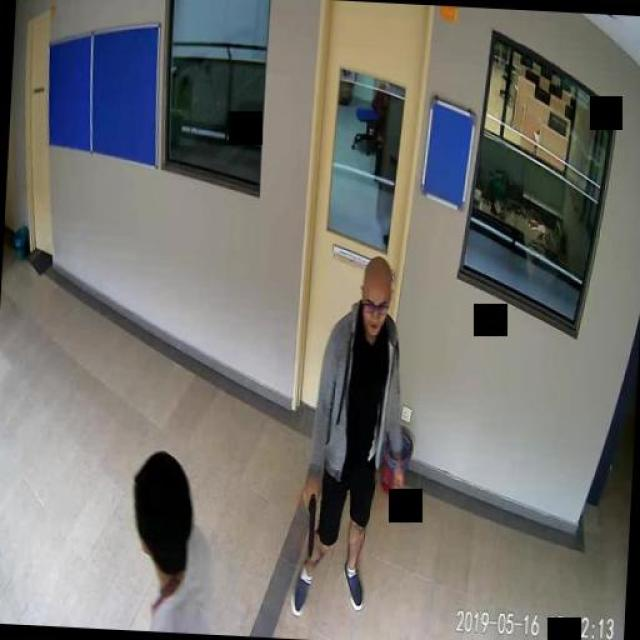gun: (300, 490, 318, 558)
